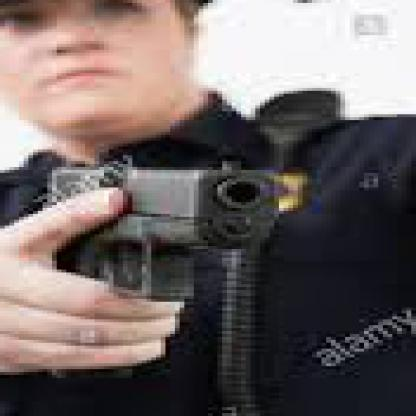gun: (24, 152, 298, 354)
